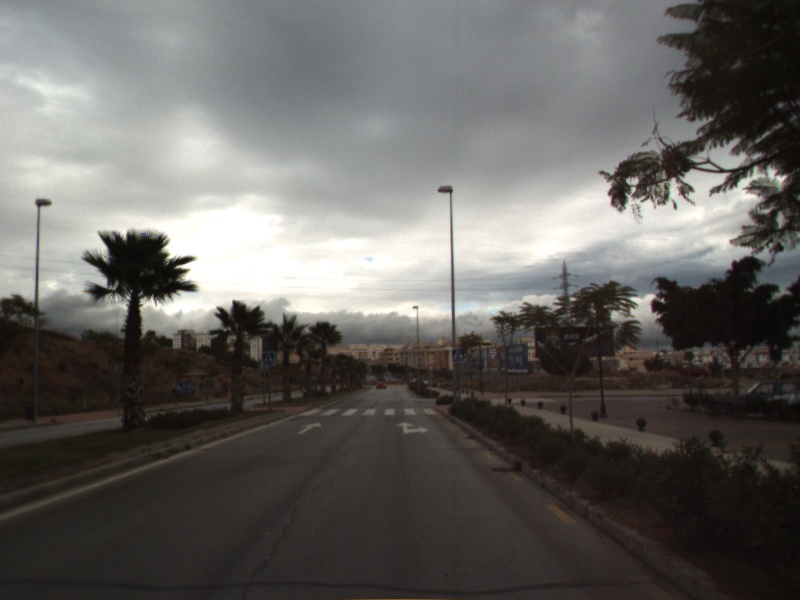STRAIGHT: (296, 420, 324, 436)
STRAIGHT_RIGHT: (393, 420, 430, 436)
